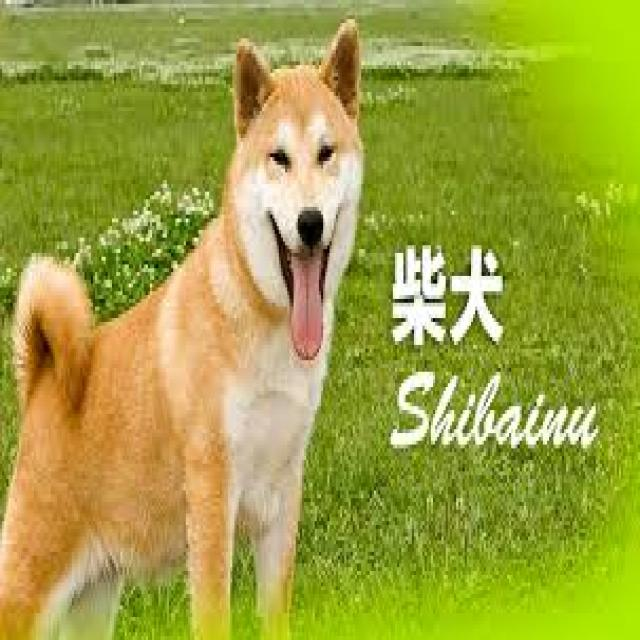dog: (3, 18, 364, 640)
